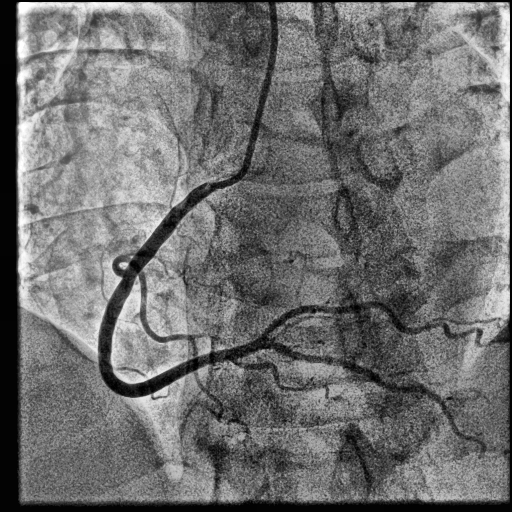pborca: (261, 302, 509, 348)
pda: (267, 340, 487, 459)
rca: (98, 182, 268, 397)
